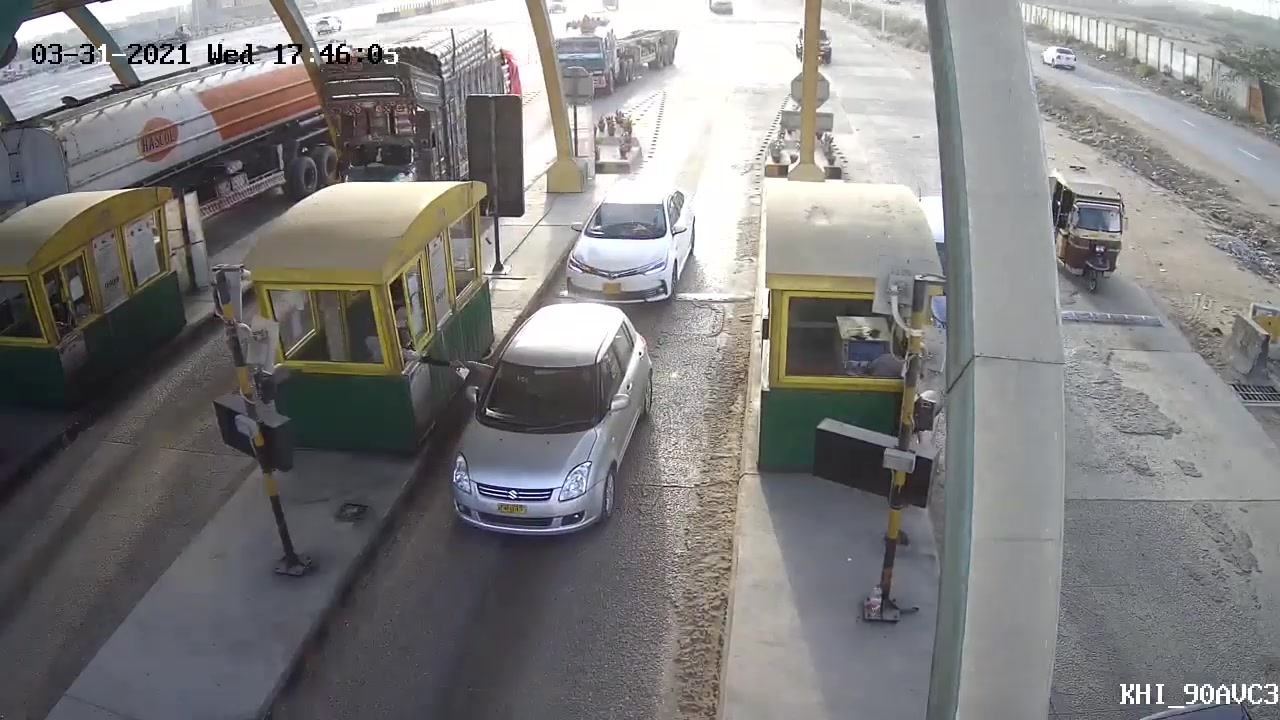F1: (433, 300, 665, 542), (560, 187, 699, 299)
